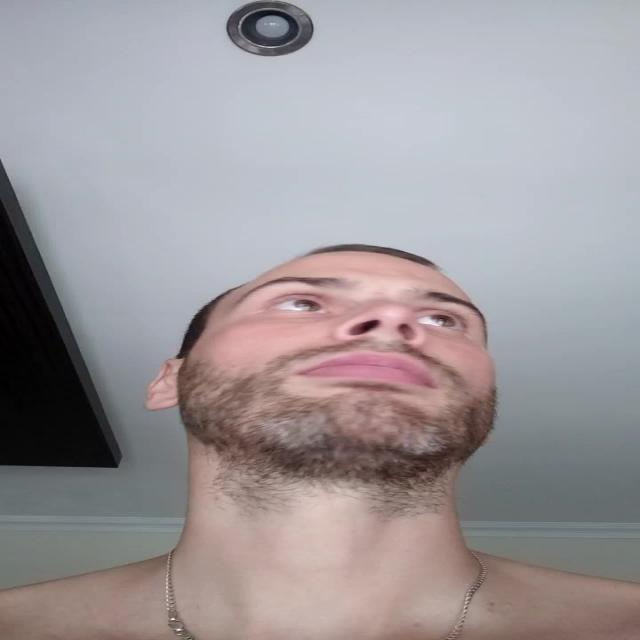earlobe: (143, 395, 178, 411)
eye: (268, 296, 330, 316), (416, 312, 471, 330)
nose: (337, 329, 426, 357)
wholeear: (147, 358, 185, 411)
